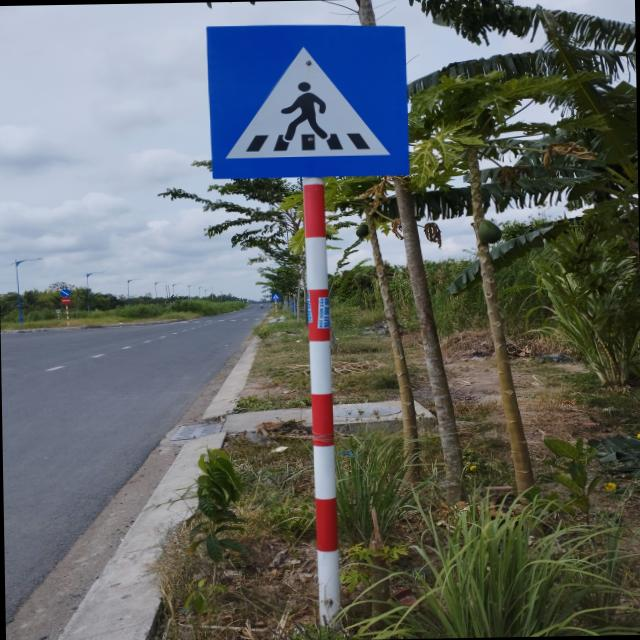Giao_Nhau_Duong_Uu_Tien: (206, 20, 408, 180)
